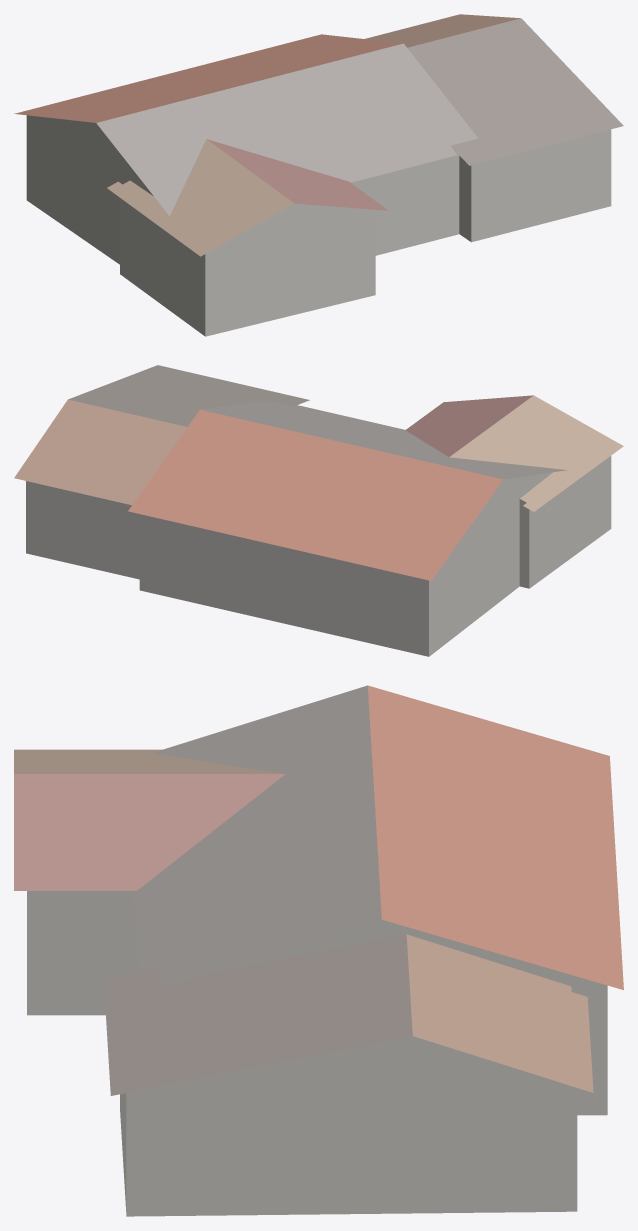
3 views of the same model, one above another, from view 1: azimuth 30°, elevation 25°; view 2: azimuth 150°, elevation 25°; view 3: azimuth 270°, elevation 25° (orthographic). The views are drawn at different scales.
Visible parts, largest first — view 1: F2 4.0-12, F4 2.5-12, Wall F -u, Wall G -v, Wall M -u, F1 4.0-12, F5 3.7-12, Wall M -v, Wall F +v, F6 3.7-12, F3 4.3-12, Wall G -u; view 2: F1 4.0-12, Wall M +v, F3 4.3-12, Wall M -u, F5 3.7-12, Wall G +v, F2 4.0-12, F4 2.5-12, Wall F +v, F6 3.7-12, Wall F +u; view 3: Wall G +u, F1 4.0-12, F2 4.0-12, F4 2.5-12, F6 3.7-12, F3 4.3-12, Wall F -v, Wall M +u, F5 3.7-12.
Boxes of the visible parts, <box> form: F2 4.0-12: <box>96,43,478,215</box>; F4 2.5-12: <box>407,18,623,165</box>; Wall F -u: <box>205,203,375,336</box>; Wall G -v: <box>471,129,611,242</box>; Wall M -u: <box>26,115,153,264</box>; F1 4.0-12: <box>14,34,403,122</box>; F5 3.7-12: <box>107,139,294,256</box>; Wall M -v: <box>351,148,459,255</box>; Wall F +v: <box>120,198,205,336</box>; F6 3.7-12: <box>207,139,387,210</box>; F3 4.3-12: <box>365,14,520,47</box>; Wall G -u: <box>459,156,471,241</box>; F1 4.0-12: <box>128,409,503,580</box>; Wall M +v: <box>139,514,428,656</box>; F3 4.3-12: <box>14,399,187,505</box>; Wall M -u: <box>429,472,552,656</box>; F5 3.7-12: <box>449,395,623,511</box>; Wall G +v: <box>26,481,139,579</box>; F2 4.0-12: <box>201,400,567,479</box>; F4 2.5-12: <box>68,365,309,426</box>; Wall F +v: <box>529,456,611,588</box>; F6 3.7-12: <box>405,395,533,456</box>; Wall F +u: <box>519,499,529,588</box>; Wall G +u: <box>126,1036,577,1216</box>; F1 4.0-12: <box>367,685,623,989</box>; F2 4.0-12: <box>133,685,381,988</box>; F4 2.5-12: <box>103,934,412,1095</box>; F6 3.7-12: <box>14,774,285,890</box>; F3 4.3-12: <box>406,934,593,1092</box>; Wall F -v: <box>27,891,138,1015</box>; Wall M +u: <box>212,919,607,1115</box>; F5 3.7-12: <box>14,749,283,773</box>.
Bounding box in the file's own units: 18.46 × 5.13 × 13.94.
